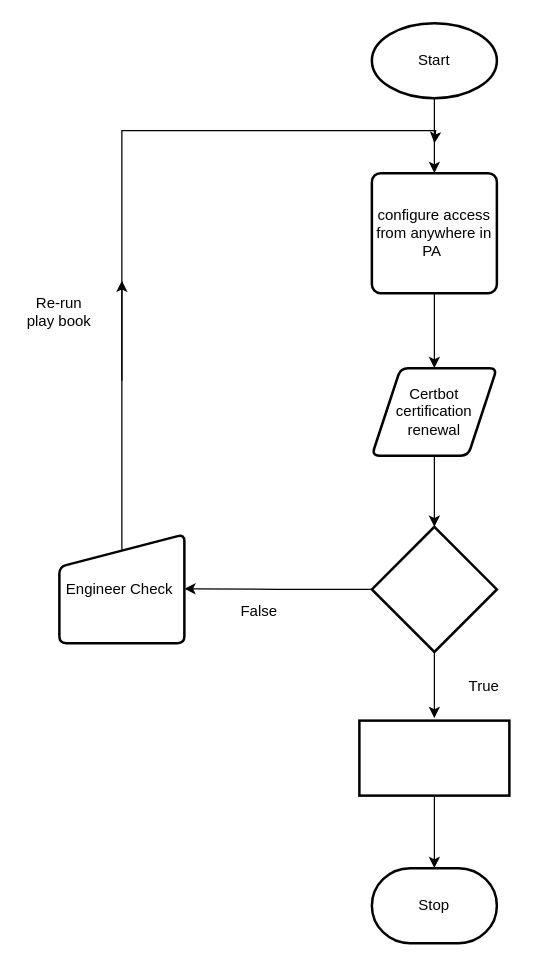
Image size: 543x965. Some labels were removed from this diagram. Here are the shapes that lost their labels. From the top down, the centre of each, then its label:
the point at 434,588: is Condition True ?
the point at 434,757: Configure access only from IN
